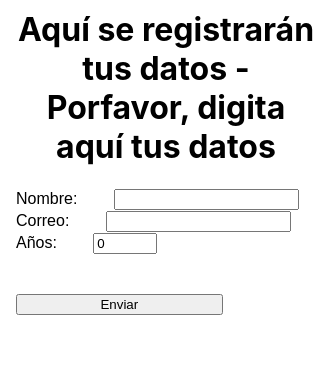
Scenario: Form funciona › Form: Enviar correctamente
The width and height of the screenshot is (333, 372).
Type "testName" into the field with test id "name-input-test-id". click: (206, 199)
box: [114,189,299,210]
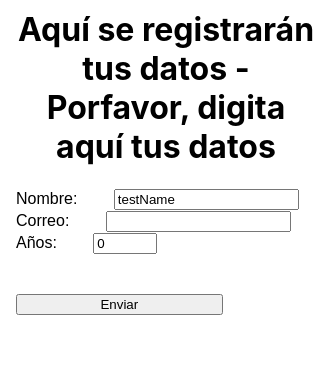
Type "testname@testname.com" into the field with test id "email-input-test-id". click: (198, 221)
box: [106,211,291,232]
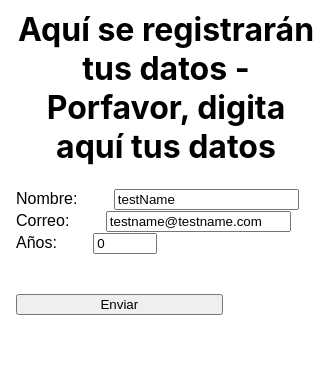
Replace the text in the number field with test id "age-input-test-id" with "24". click: (125, 243)
box: [93,233,157,254]
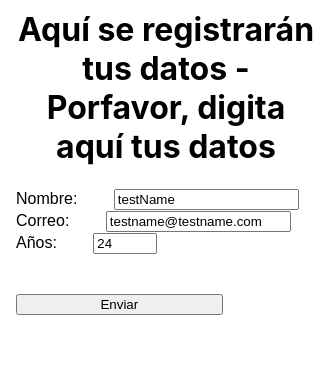
Click the button "Enviar". click: (119, 304)
box: [16,294,223,315]
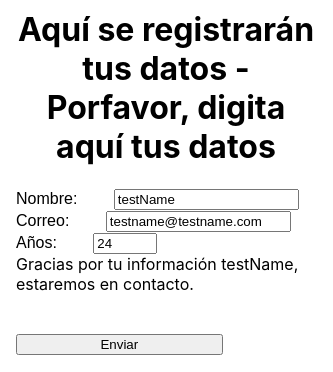
Expected: the text "Gracias por tu información testName, estaremos en contacto." is shown, [16,254,316,294]
